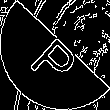P_NE: (25, 24, 85, 86)
